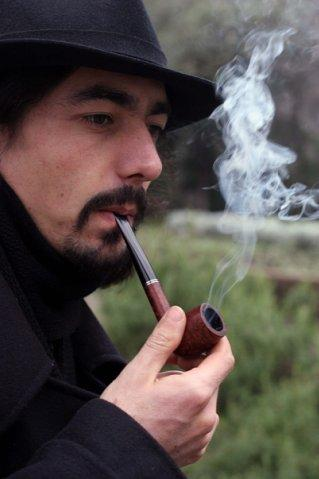trubka: (114, 212, 226, 360)
